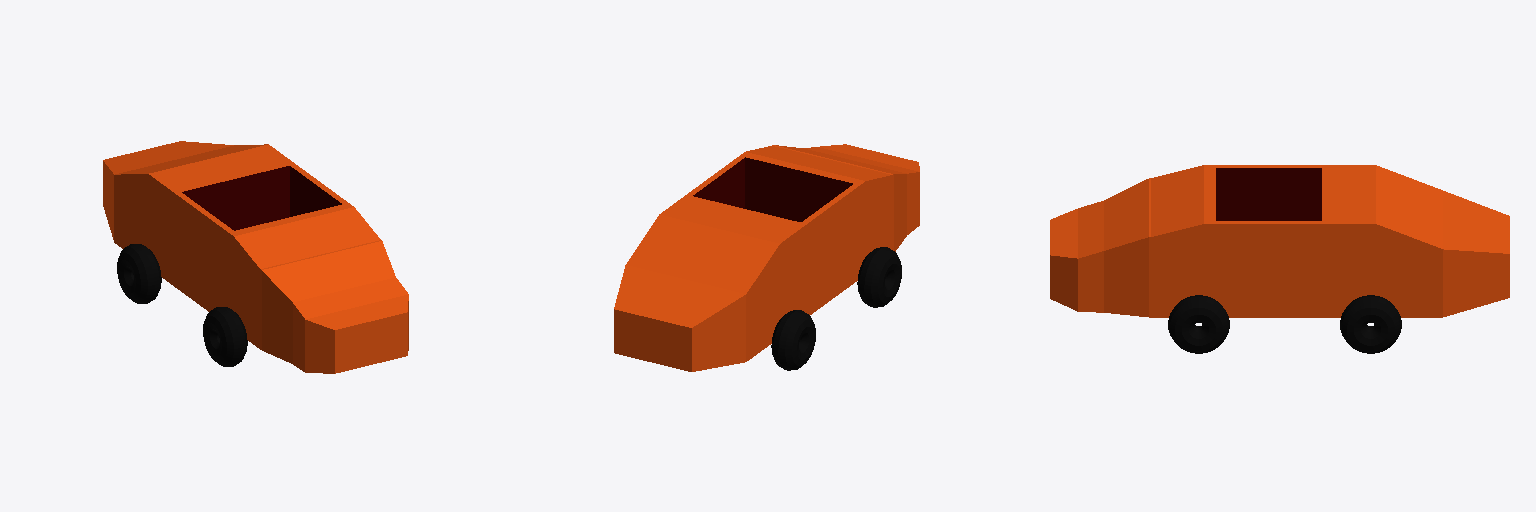
File: RaceCar.obj
3 views of the same model, side by side, from view 1: azimuth 30°, elevation 25°; view 2: azimuth 150°, elevation 25°; view 3: azimuth 270°, elevation 25° (orthographic).
Parts seen in each view (by area): view 1: Cube; view 2: Cube; view 3: Cube.
Part boxes in pixels (bbox=[...]): Cube: bbox=[103, 141, 408, 373]; Cube: bbox=[614, 144, 919, 371]; Cube: bbox=[1050, 165, 1509, 353].
Bounding box in the file's own units: 1.79 × 1.27 × 4.27.